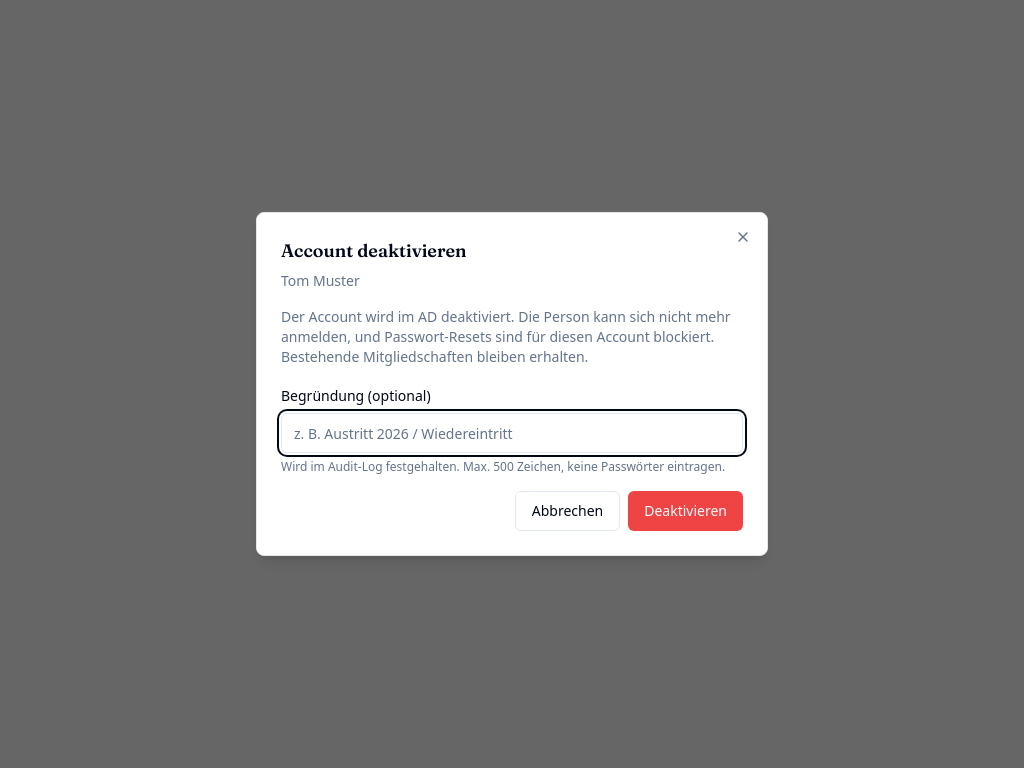
Test: UserStatusModal › shows the ad-unavailable message on 503
The width and height of the screenshot is (1024, 768).
Click the button "Deaktivieren": (686, 511) top-left (628, 491), bottom-right (743, 531)
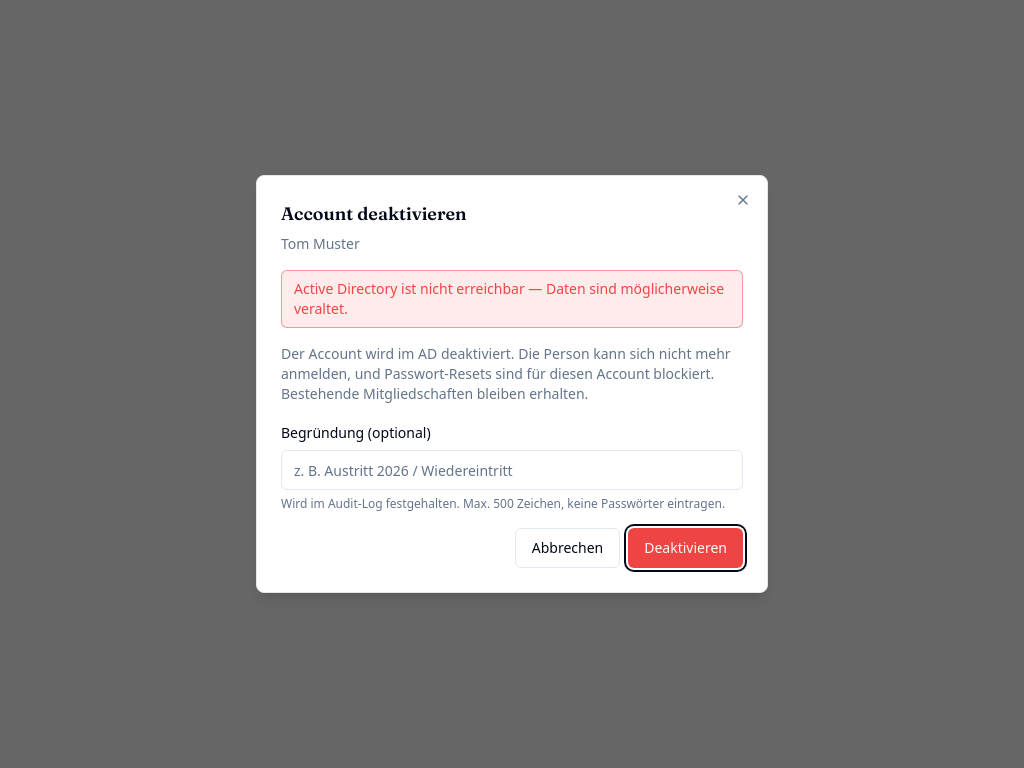
Check: the text "Active Directory ist nicht erreichbar — Daten sind möglicherweise veraltet." is shown, box top-left (281, 270), bottom-right (743, 328)
